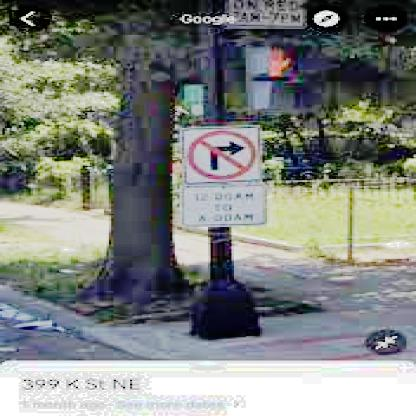No right turn: (190, 133, 256, 177)
